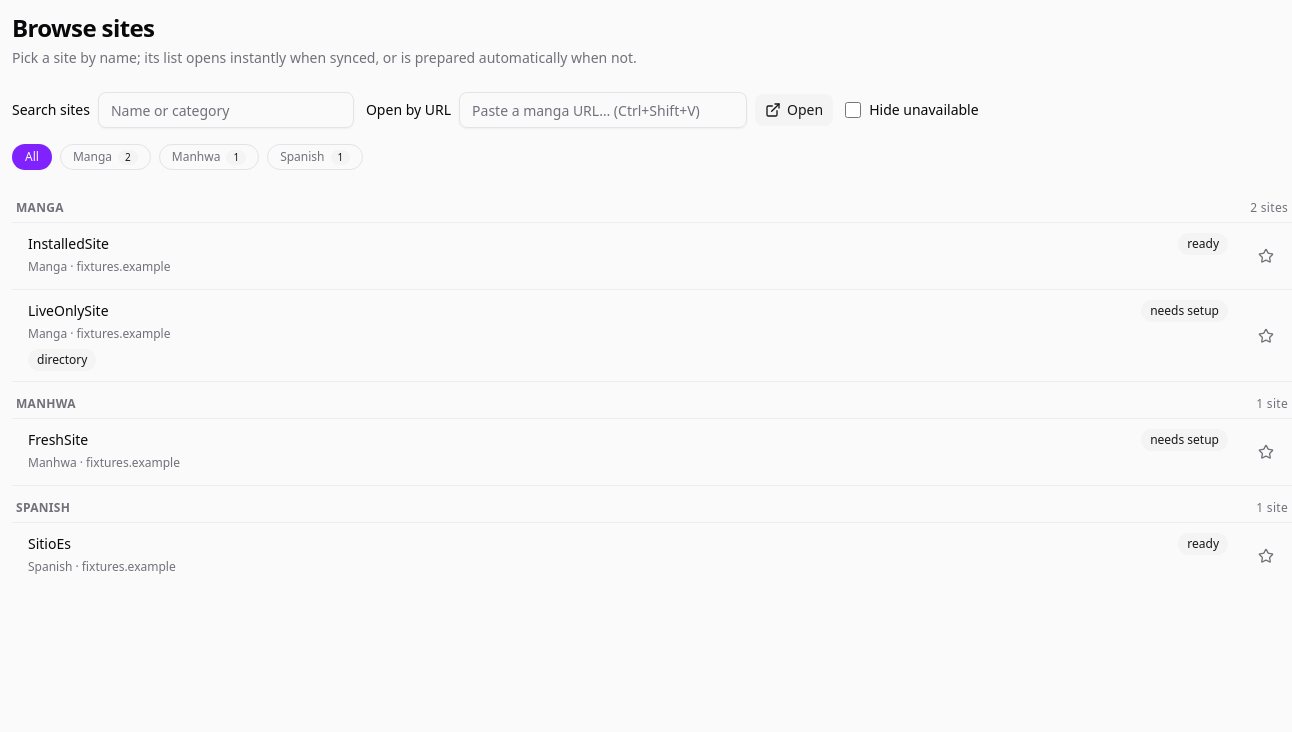
Test: SitePickerPage (browse default state) › single category chip filters the list to that category
This screenshot has width=1292, height=732.
Expected: the text "InstalledSite" is shown, [28,234,109,253]
Click the button "Manhwa 1" at point(209, 157), box [159,144,259,170]
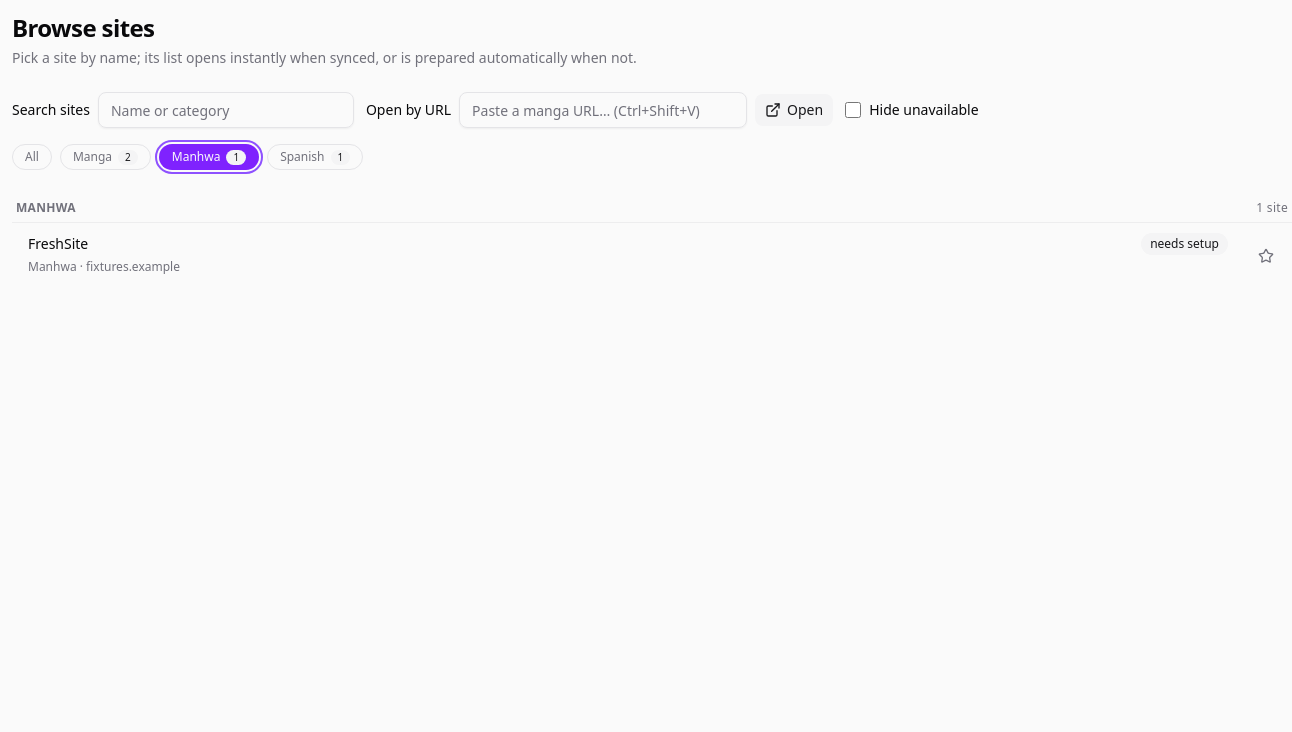
Expected: the button "InstalledSite" is gone
Expected: the button "LiveOnlySite" is gone
Expected: the button "SitioEs" is gone
